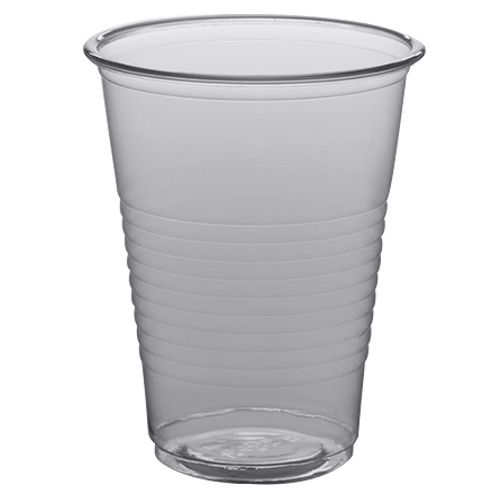plastic_glass: (53, 6, 429, 492)
